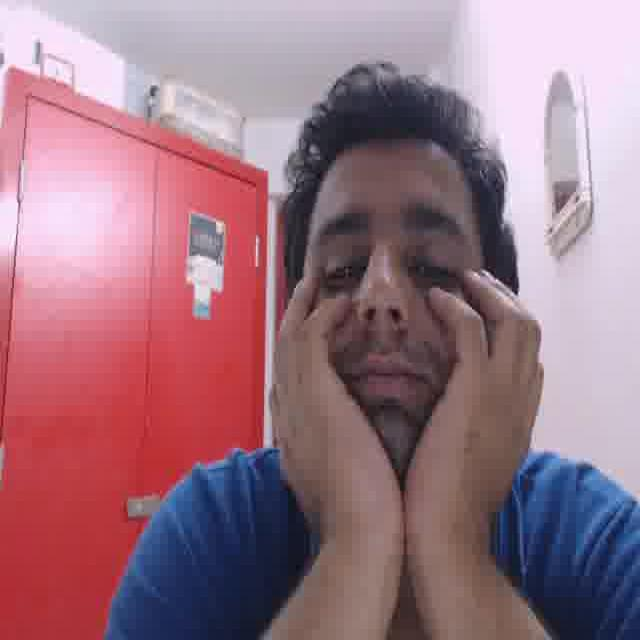Boredom: (292, 120, 494, 471)
